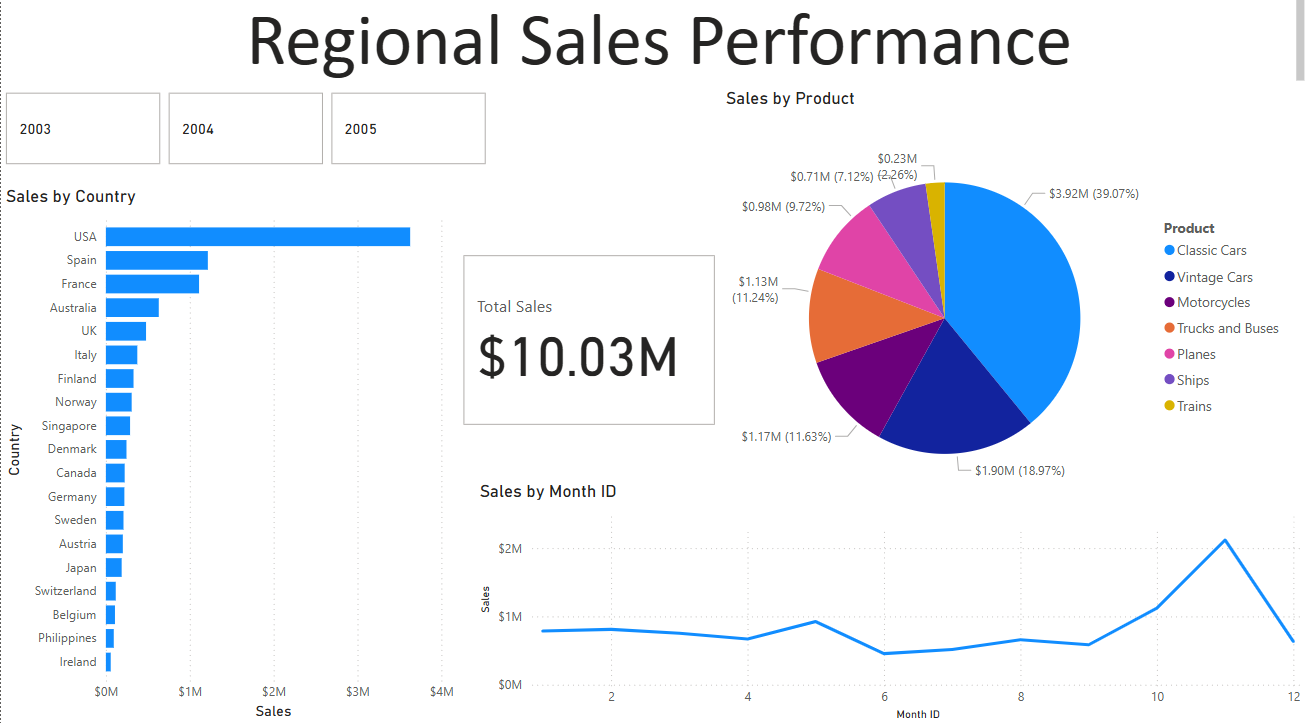

The dashboard page shown, as its layout file describes it:
{"tool":"powerbi","page":{"name":"Page 1","canvas":[1280,720],"ordinal":0},"visuals":[{"type":"textbox","box":[16,0,1264,96],"z":0},{"type":"advancedSlicerVisual","fields":{"Values":["sales_data_sample.YEAR_ID"]},"box":[0,96,480,80],"z":1000},{"type":"barChart","title":"Sales by Country","fields":{"Y":["Sum(sales_data_sample.SALES)"],"Category":["sales_data_sample.COUNTRY"]},"box":[0,192,448,528],"z":2000},{"type":"lineChart","fields":{"Category":["sales_data_sample.MONTH_ID"],"Y":["Sum(sales_data_sample.SALES)"]},"box":[464,480,816,240],"z":3000},{"type":"pieChart","fields":{"Y":["Sum(sales_data_sample.SALES)"],"Category":["sales_data_sample.PRODUCTLINE"]},"box":[704,96,560,432],"z":4000},{"type":"cardVisual","fields":{"Data":["Sum(sales_data_sample.SALES)"]},"box":[448,256,256,176],"z":5000}]}

Visuals, with their boxes in screenshot pixels (x1, y1, x2, y2), scaled from the page's 1280x720 canvas onto the 1305x723 screenshot:
textbox: region(16, 0, 1304, 96)
advancedSlicerVisual - sales_data_sample.YEAR_ID: region(0, 96, 489, 177)
"Sales by Country" barChart: region(0, 193, 457, 722)
lineChart - sales_data_sample.MONTH_ID x Sum(sales_data_sample.SALES): region(473, 482, 1304, 722)
pieChart - Sum(sales_data_sample.SALES) x sales_data_sample.PRODUCTLINE: region(718, 96, 1289, 530)
cardVisual - Sum(sales_data_sample.SALES): region(457, 257, 718, 434)
